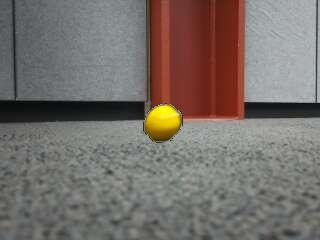lemon: (145, 105, 181, 140)
